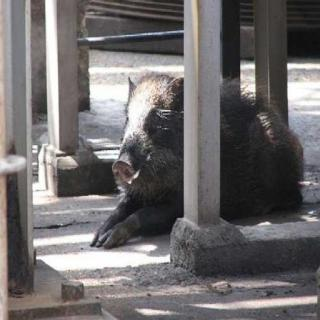Pig: (83, 56, 314, 263)
